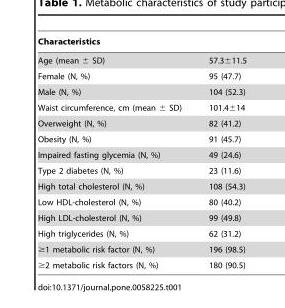table: (36, 36, 245, 269)
table column: (36, 36, 194, 269), (194, 36, 245, 269)
table column header: (36, 36, 245, 50)
table row: (36, 50, 245, 68), (36, 83, 245, 99), (36, 99, 245, 115), (36, 115, 245, 131), (36, 146, 245, 162), (36, 162, 245, 178), (36, 178, 245, 194), (36, 209, 245, 225), (36, 225, 245, 241), (36, 68, 245, 83), (36, 131, 245, 146), (36, 194, 245, 209), (36, 241, 245, 256), (36, 36, 245, 50), (36, 256, 245, 269)
